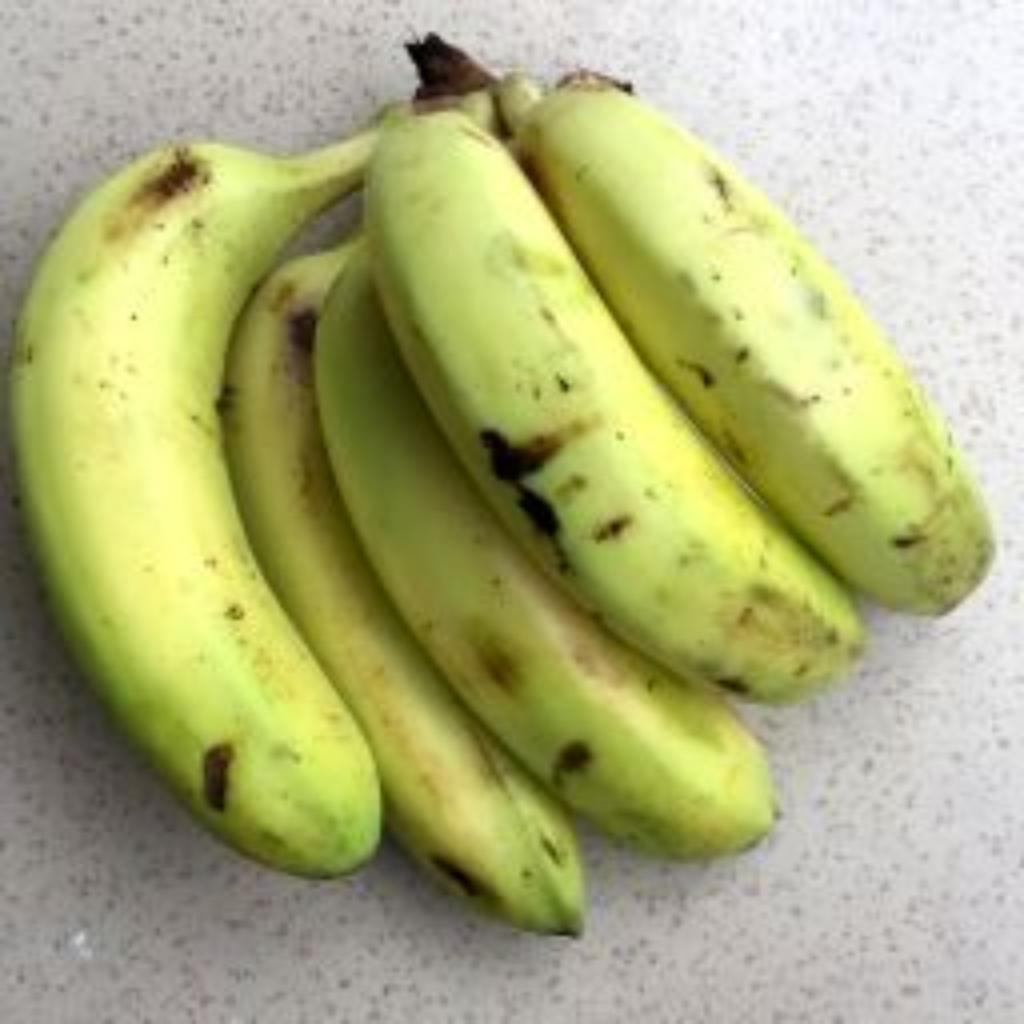banana: (368, 108, 862, 700), (318, 250, 767, 856), (16, 135, 380, 868), (518, 82, 994, 612), (226, 247, 584, 934)
